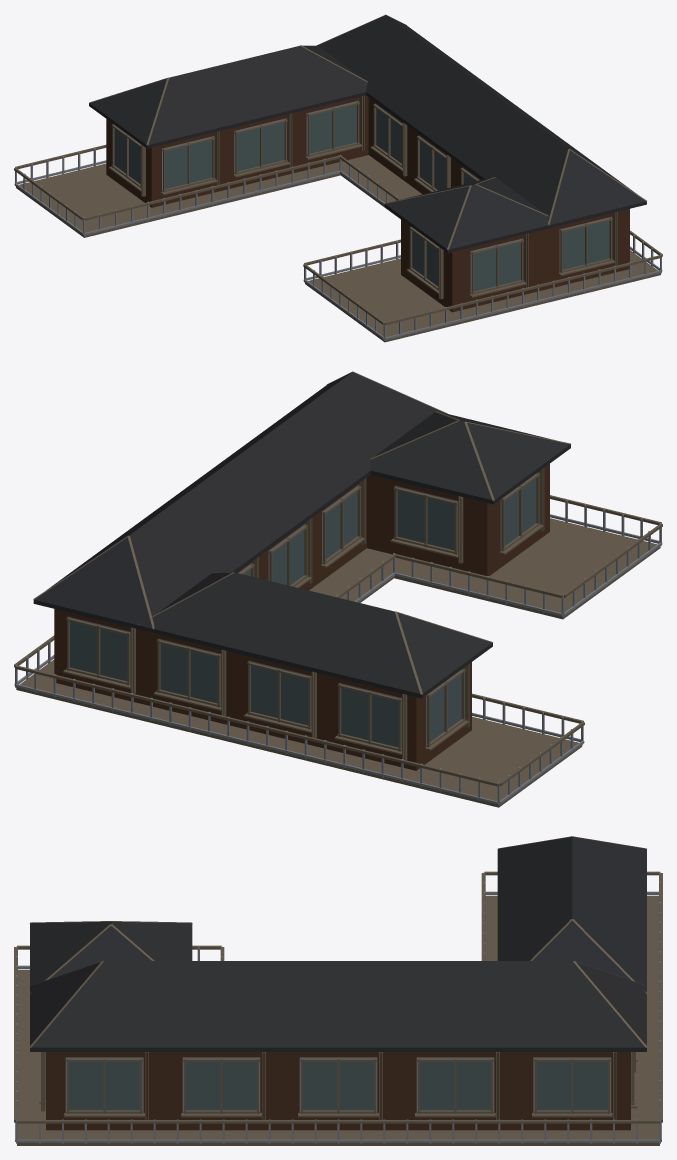
File: top-prebuilt_close.fbx
The picture shows the model from 3 angles, top to bottom: view 1: azimuth 30°, elevation 25°; view 2: azimuth 150°, elevation 25°; view 3: azimuth 270°, elevation 25°; orthographic projection. The views are drawn at different scales.
Parts seen in each view (by area): view 1: a2016/0/top-prebuilt_close; view 2: a2016/0/top-prebuilt_close; view 3: a2016/0/top-prebuilt_close.
Part boxes in pixels (left/top/right/bottom): a2016/0/top-prebuilt_close: left=14, top=14, right=662, bottom=342; a2016/0/top-prebuilt_close: left=14, top=371, right=662, bottom=807; a2016/0/top-prebuilt_close: left=14, top=836, right=662, bottom=1145.
Bounding box in the file's own units: 20.2 × 5.6 × 22.2.
